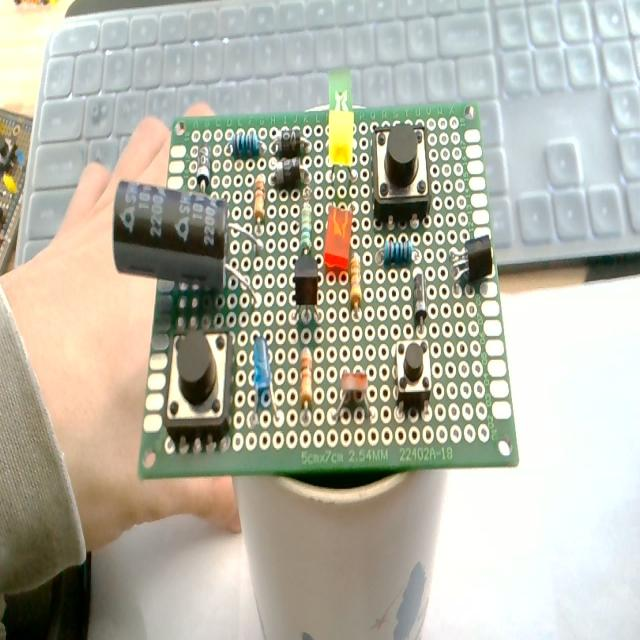Electrolytic capacitor: (114, 180, 264, 296)
cds: (330, 368, 373, 424)
diode: (273, 125, 311, 159), (272, 157, 306, 188), (413, 271, 427, 327), (196, 144, 210, 190)
led: (323, 205, 352, 272), (328, 110, 354, 167), (253, 334, 272, 404)
resistor: (374, 234, 418, 269), (231, 128, 262, 160), (300, 346, 313, 408), (349, 252, 362, 310), (300, 201, 312, 251), (254, 174, 266, 222)
switch: (164, 328, 234, 445), (371, 119, 431, 227), (395, 339, 432, 414)
transistor: (449, 235, 494, 286), (294, 254, 320, 322)
